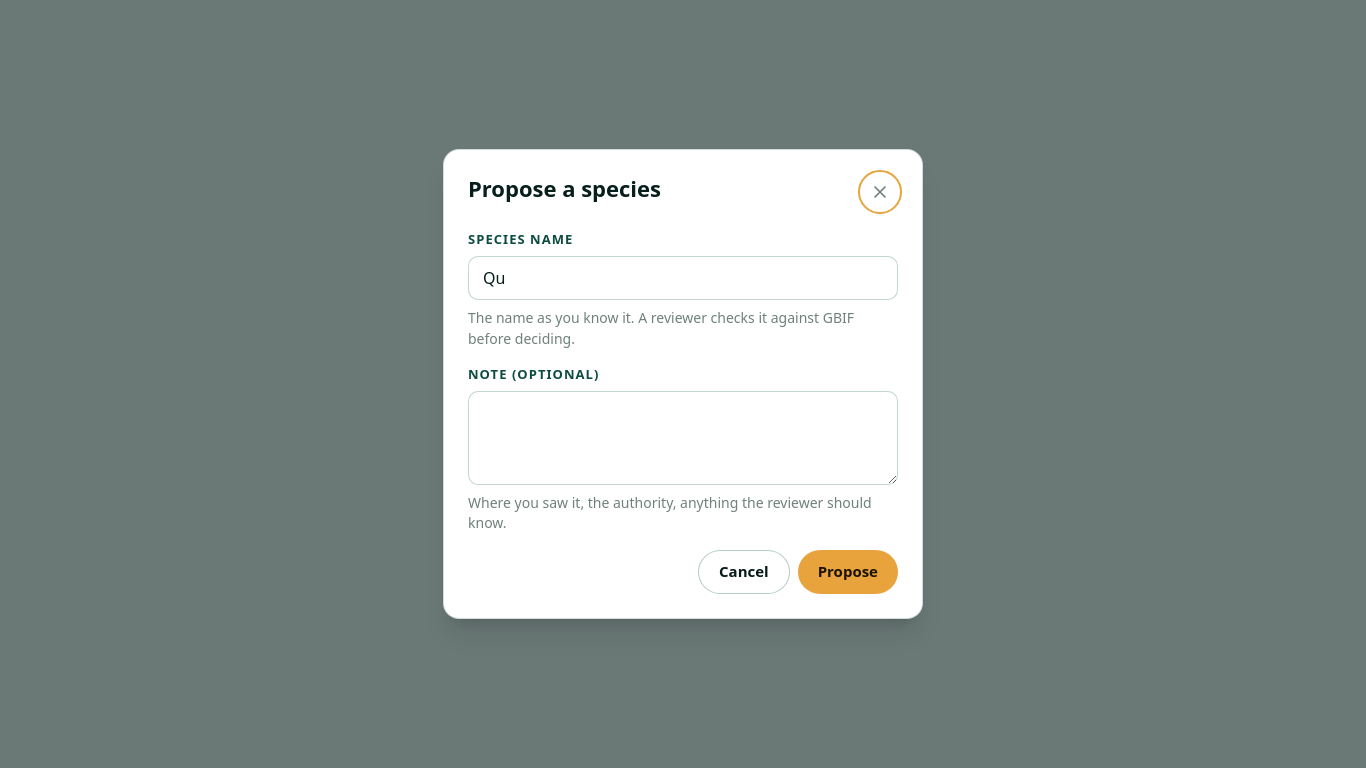
Scenario: RFC-75 R2 ProposeSpeciesDialog › RFC-13 R6 a name under three characters is refused before any request
Click the button "Propose" at (848, 572), box [798, 550, 898, 594]
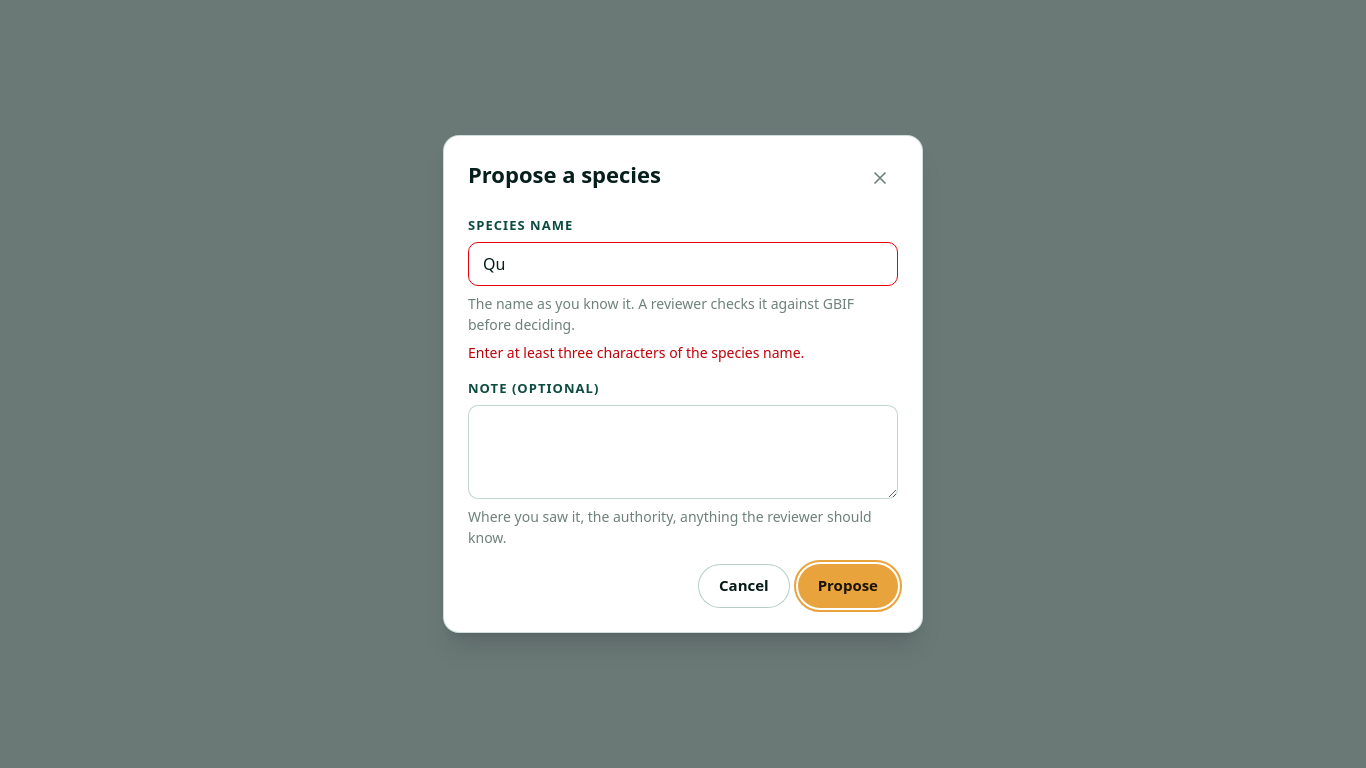
Expected: the text "Enter at least three characters of the species name." is shown, [468, 343, 804, 362]
